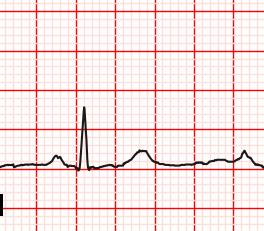LVH: (119, 144, 164, 172)
